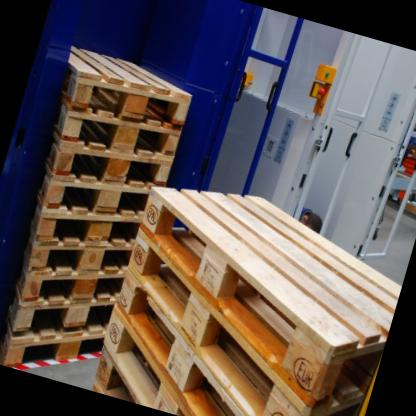BoxFace: (138, 185, 402, 410), (129, 229, 366, 416), (116, 273, 244, 416), (63, 45, 193, 128), (55, 102, 185, 162), (46, 143, 169, 194), (38, 173, 148, 224)
